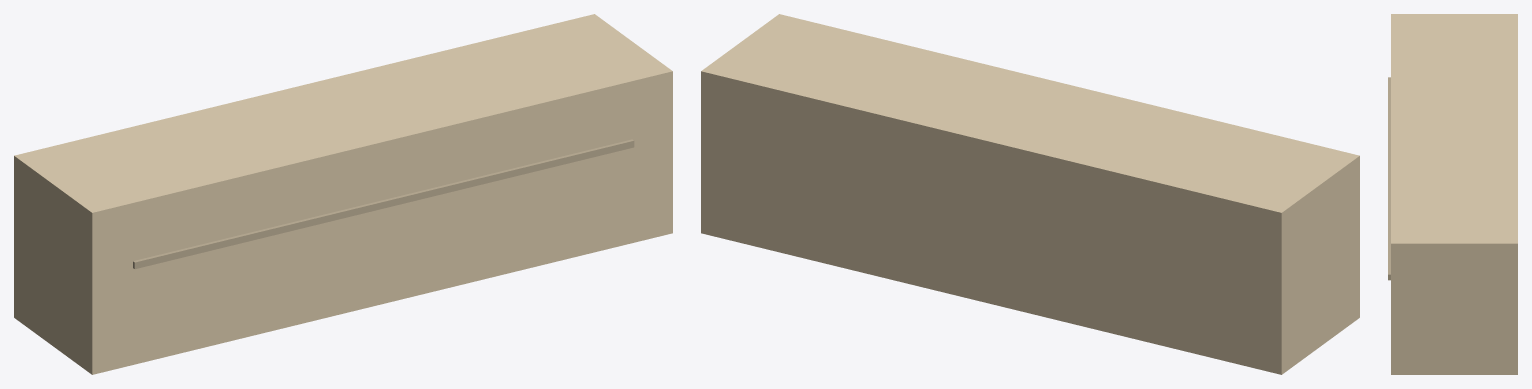
The model's file is rack.glb.
3 renders of one model, left to right at view 1: azimuth 30°, elevation 25°; view 2: azimuth 150°, elevation 25°; view 3: azimuth 270°, elevation 25°, orthographic. The views are drawn at different scales.
Size of the model in its own units: 1.8 by 0.48 by 0.43.
